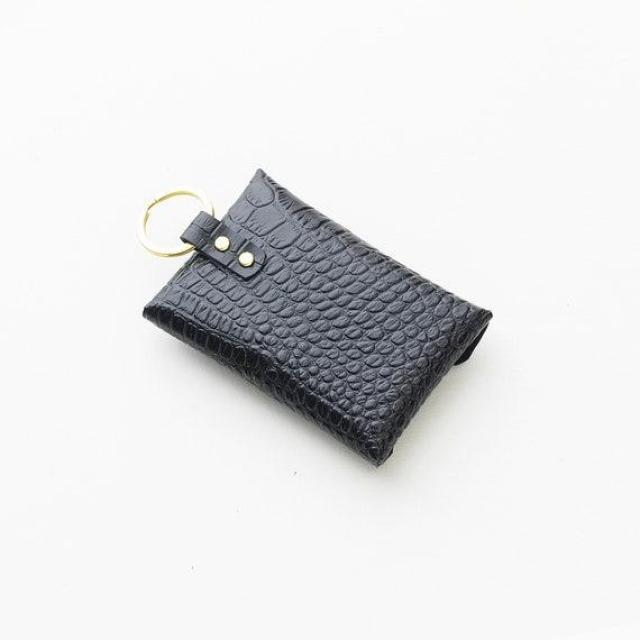cuzdan: (134, 150, 523, 536)
